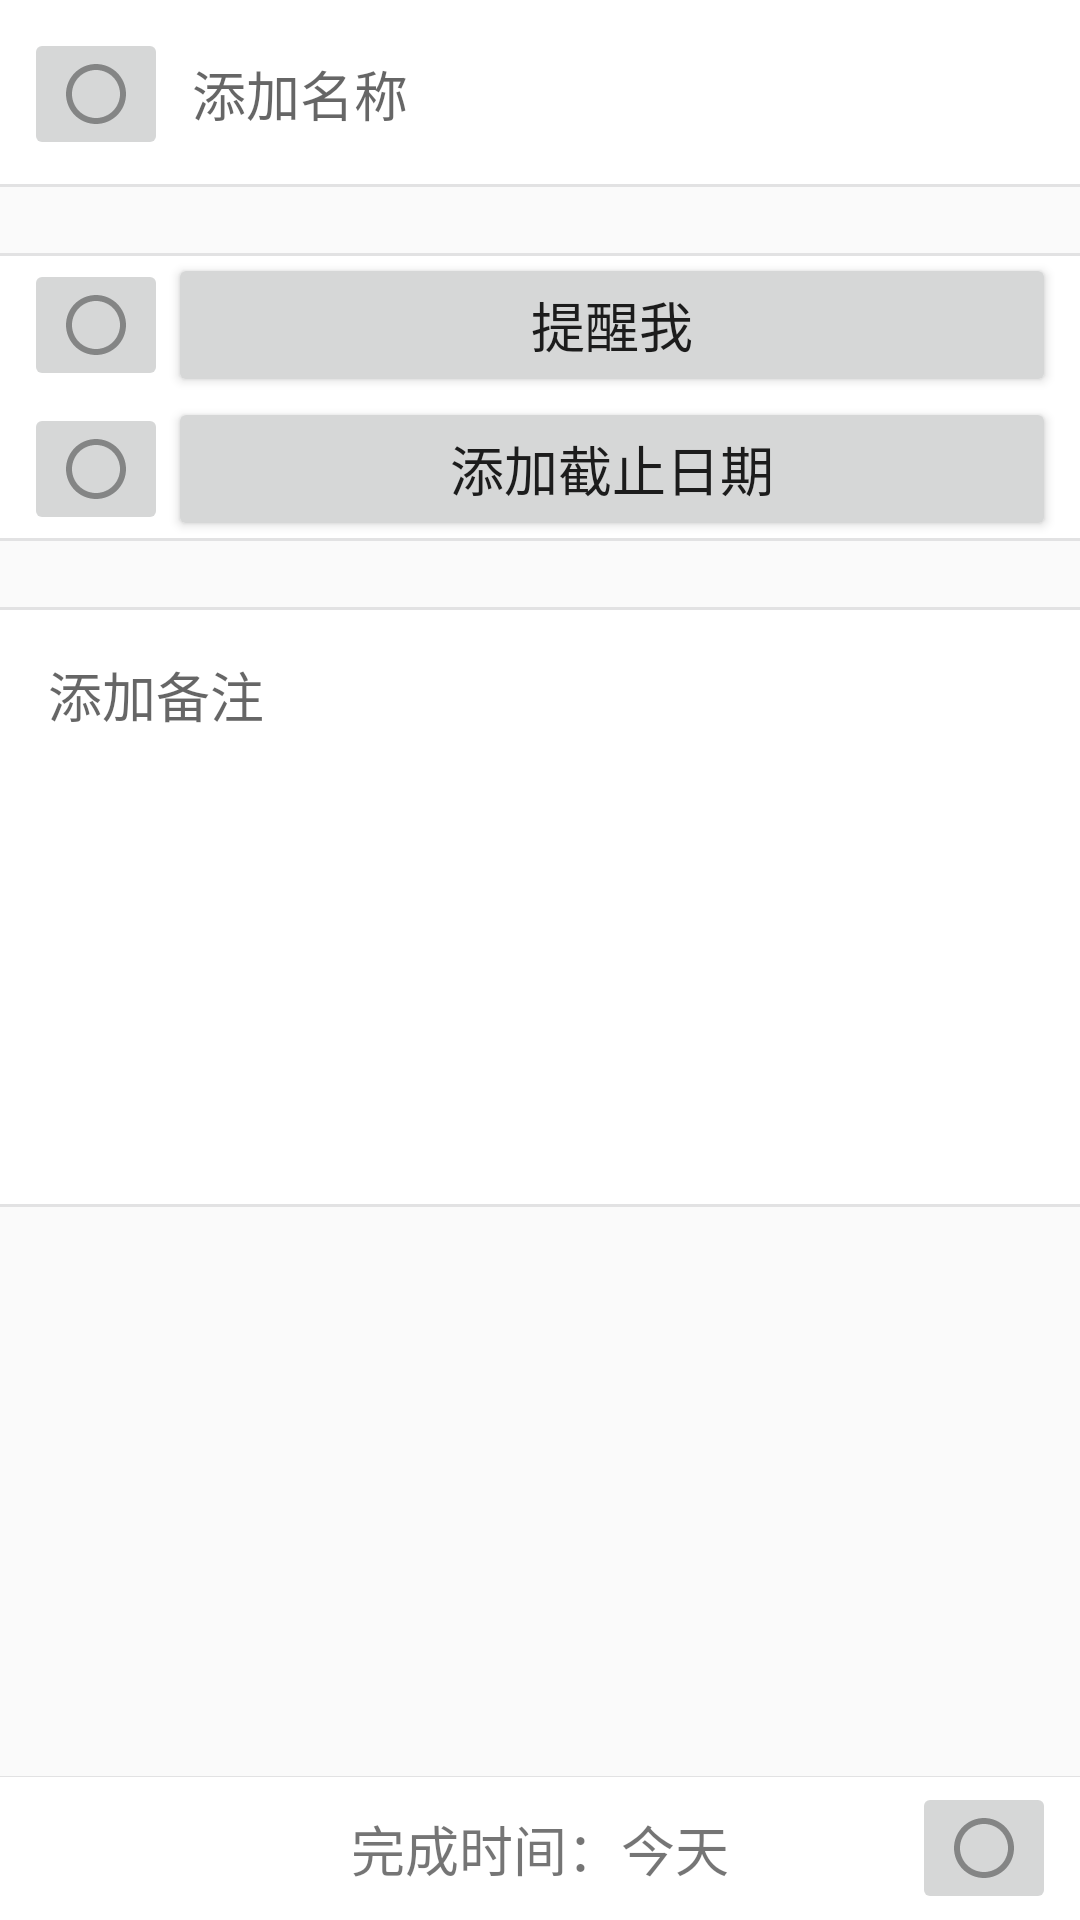

Icons on this 1080×1920 Android screen, each with the point to tap as (x,y):
radio unchecked: (96,94), (96,325), (96,469), (984,1848)
